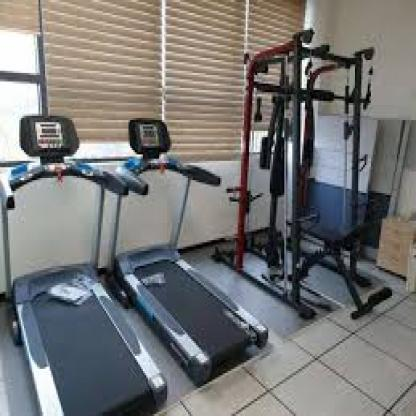smith machine: (236, 28, 393, 321)
